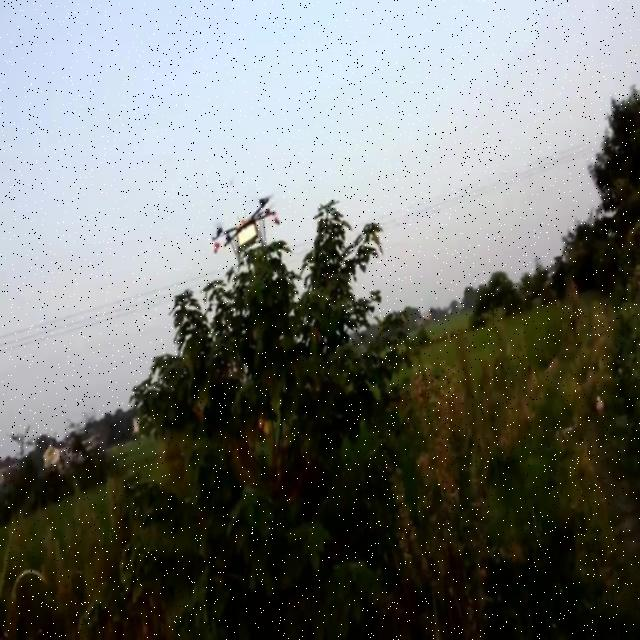UAV: (212, 193, 280, 272)
